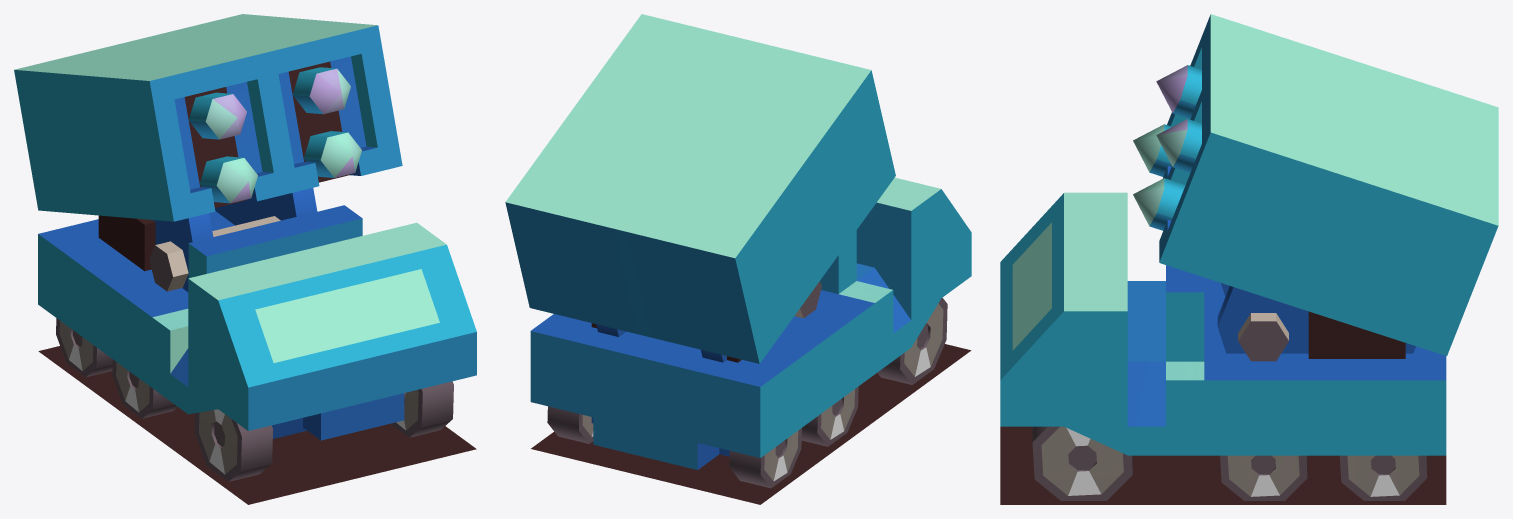
Rendered from RocketMesh.AzureAsteroid.glb.
The picture shows the model from 3 angles, left to right: view 1: azimuth 30°, elevation 25°; view 2: azimuth 150°, elevation 25°; view 3: azimuth 270°, elevation 25°; orthographic projection. The views are drawn at different scales.
Parts seen in each view (by area): view 1: RocketMesh.AzureAsteroid; view 2: RocketMesh.AzureAsteroid; view 3: RocketMesh.AzureAsteroid.
Boxes of the visible parts, x1=… form: RocketMesh.AzureAsteroid: x1=14, y1=14, x2=476, y2=504; RocketMesh.AzureAsteroid: x1=505, y1=14, x2=971, y2=504; RocketMesh.AzureAsteroid: x1=1000, y1=14, x2=1498, y2=504.
Bounding box in the file's own units: 1.1 × 1.63 × 1.96.
Materials: 1 (1 with a texture image).
